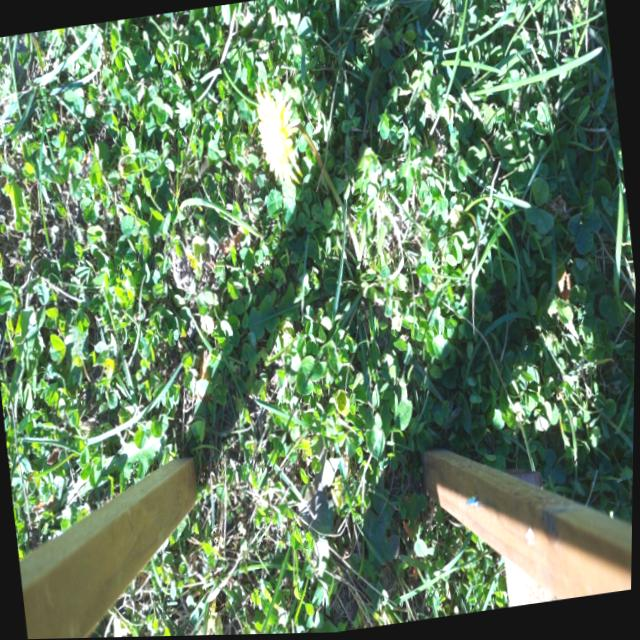base: (345, 240, 373, 285)
flower: (251, 84, 304, 176)
